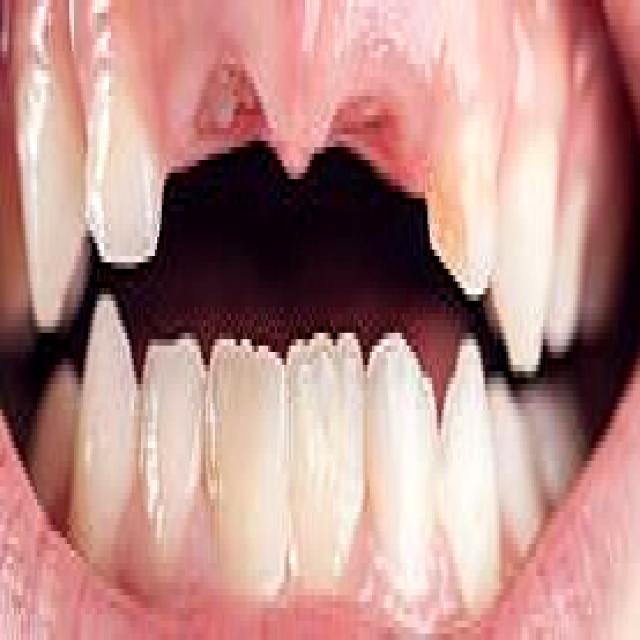hypodontia: (150, 0, 444, 186)
tooth-discoloration: (425, 141, 492, 294)
